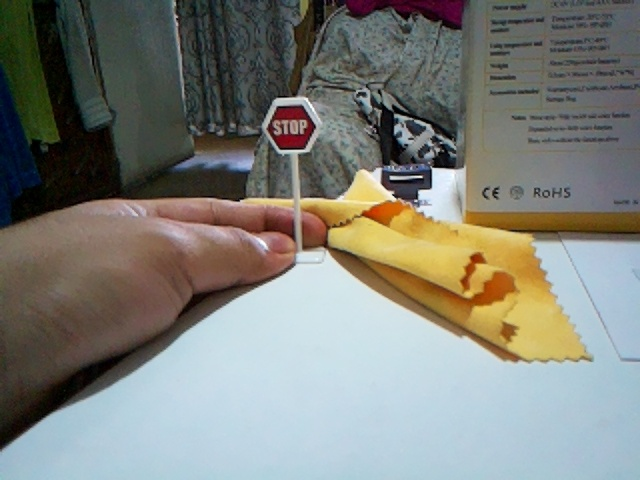stop_sign: (263, 97, 321, 154)
